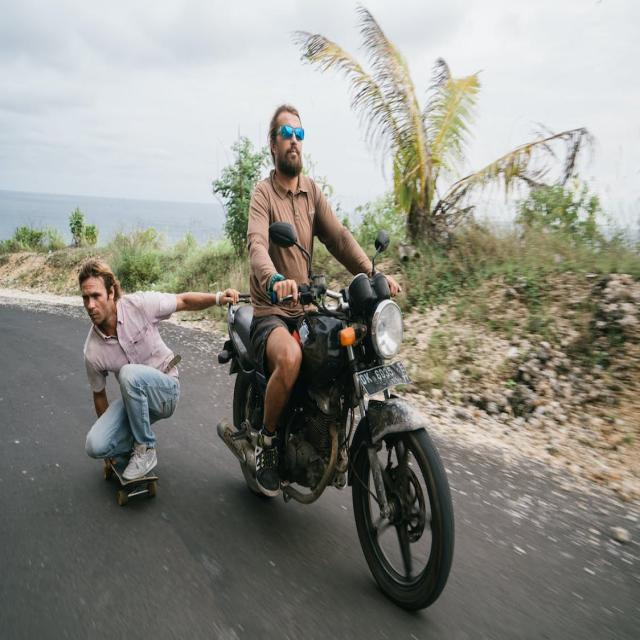without helmet: (266, 94, 320, 192)
